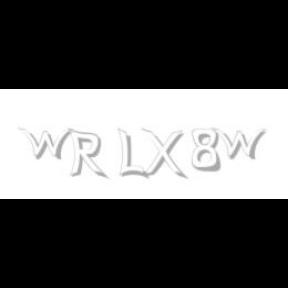8: (192, 128, 220, 172)
L: (118, 128, 146, 180)
R: (67, 128, 105, 180)
X: (141, 128, 185, 180)
w: (18, 128, 78, 160), (212, 128, 270, 160)
